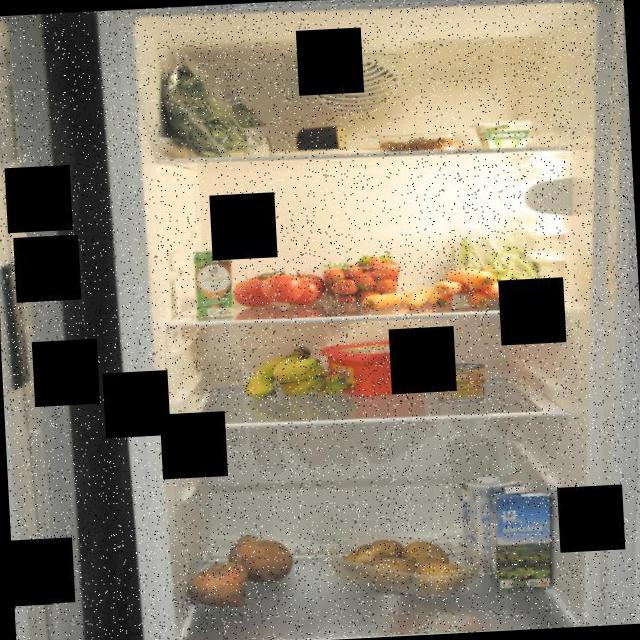Gambas/Langostinos: (378, 136, 468, 158)
Leche: (488, 482, 560, 592), (458, 472, 528, 576)
Mantequilla: (316, 334, 436, 400)
Patata: (335, 530, 471, 602)
Plátano: (239, 342, 349, 402)
Queso: (292, 120, 352, 154)
Tomate: (232, 263, 330, 313)
Zanahoria: (428, 262, 518, 312), (360, 288, 434, 314)
